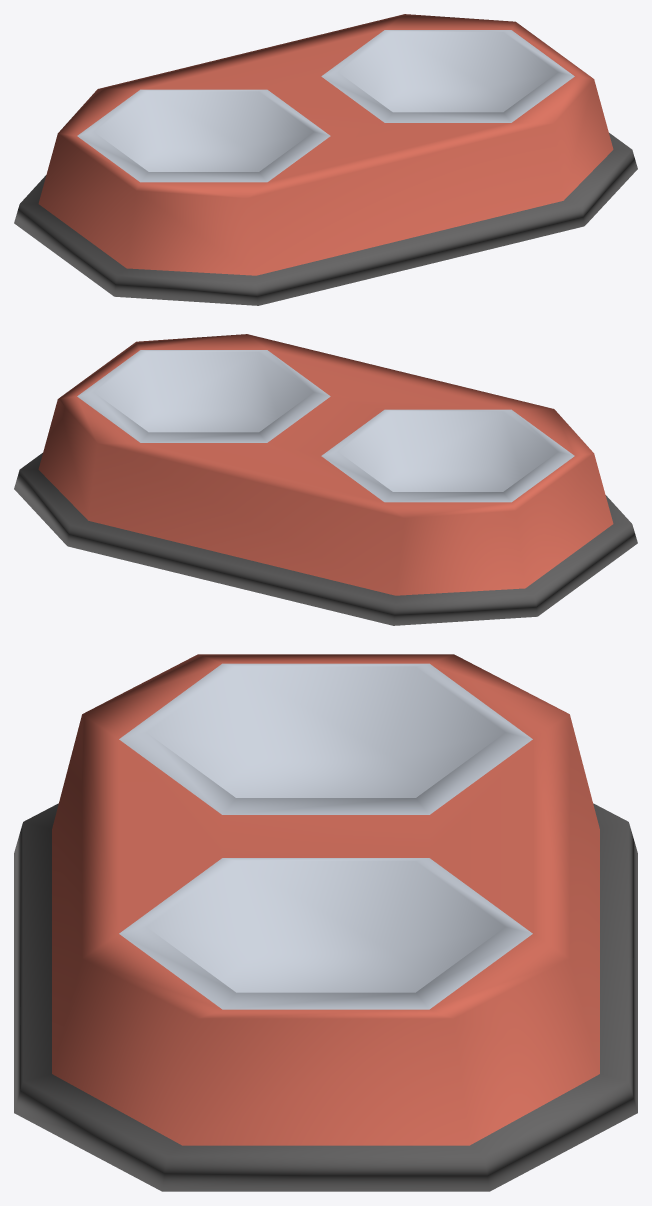
The model's file is SM_PetBowl_02.obj.
The picture shows the model from 3 angles, top to bottom: view 1: azimuth 30°, elevation 25°; view 2: azimuth 150°, elevation 25°; view 3: azimuth 270°, elevation 25°; orthographic projection. The views are drawn at different scales.
Parts seen in each view (by area): view 1: SM_PetBowl_02_Mat_SwatchOverlay_PolygonTown_01_Inst; view 2: SM_PetBowl_02_Mat_SwatchOverlay_PolygonTown_01_Inst; view 3: SM_PetBowl_02_Mat_SwatchOverlay_PolygonTown_01_Inst.
Boxes of the visible parts, bbox=[...] form: SM_PetBowl_02_Mat_SwatchOverlay_PolygonTown_01_Inst: bbox=[14, 14, 637, 305]; SM_PetBowl_02_Mat_SwatchOverlay_PolygonTown_01_Inst: bbox=[14, 334, 637, 625]; SM_PetBowl_02_Mat_SwatchOverlay_PolygonTown_01_Inst: bbox=[14, 654, 637, 1191].
Size of the model in its own units: 0.5689 by 0.0977 by 0.3598.
1 material, 1 textured.
